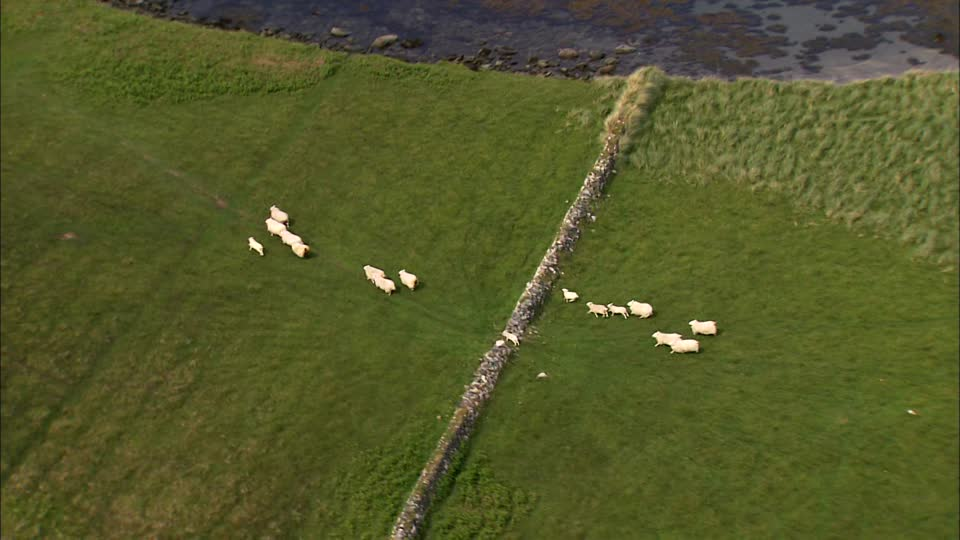sheep: (689, 316, 719, 339), (652, 327, 682, 350), (285, 239, 315, 259), (372, 273, 397, 296), (263, 219, 288, 241), (626, 300, 656, 318), (671, 337, 700, 355), (361, 261, 385, 282), (398, 267, 418, 292), (585, 300, 610, 320), (269, 204, 290, 225), (247, 236, 265, 259), (608, 302, 631, 320), (501, 329, 521, 348), (561, 287, 579, 305)
